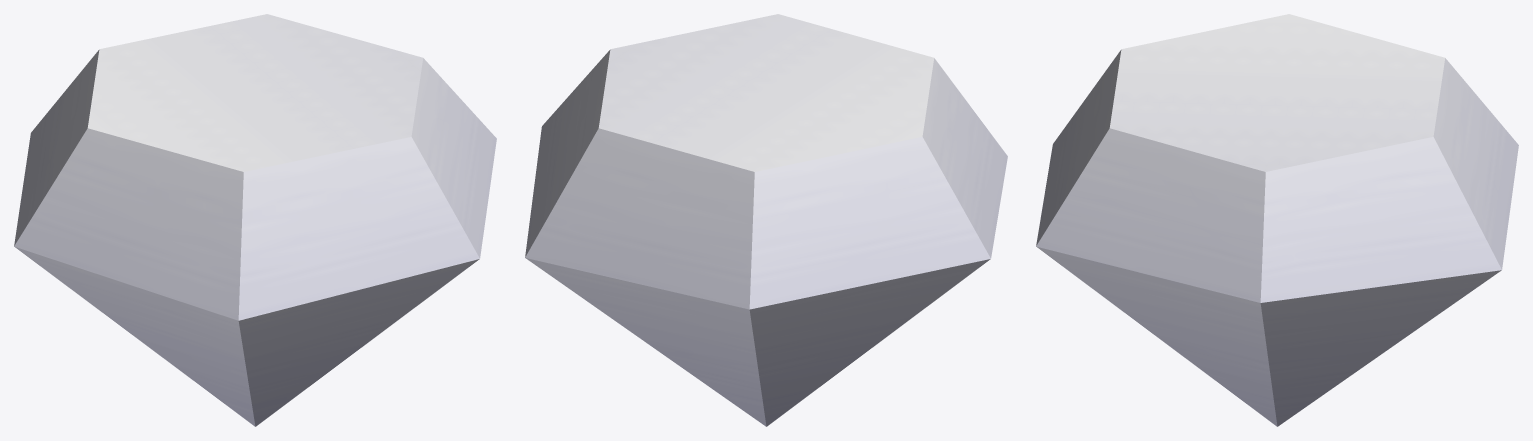
Rendered from diamond.glb.
3 views of the same model, side by side, from view 1: azimuth 30°, elevation 25°; view 2: azimuth 150°, elevation 25°; view 3: azimuth 270°, elevation 25° (orthographic).
Visible parts, largest first — view 1: Diamond; view 2: Diamond; view 3: Diamond.
Part boxes in pixels (x1,y1,x2,y2): Diamond: (14, 14, 496, 426); Diamond: (525, 14, 1007, 426); Diamond: (1036, 14, 1518, 426).
Size of the model in its own units: 0.3843 by 0.2632 by 0.3449.
Materials: 1 (1 with a texture image).
